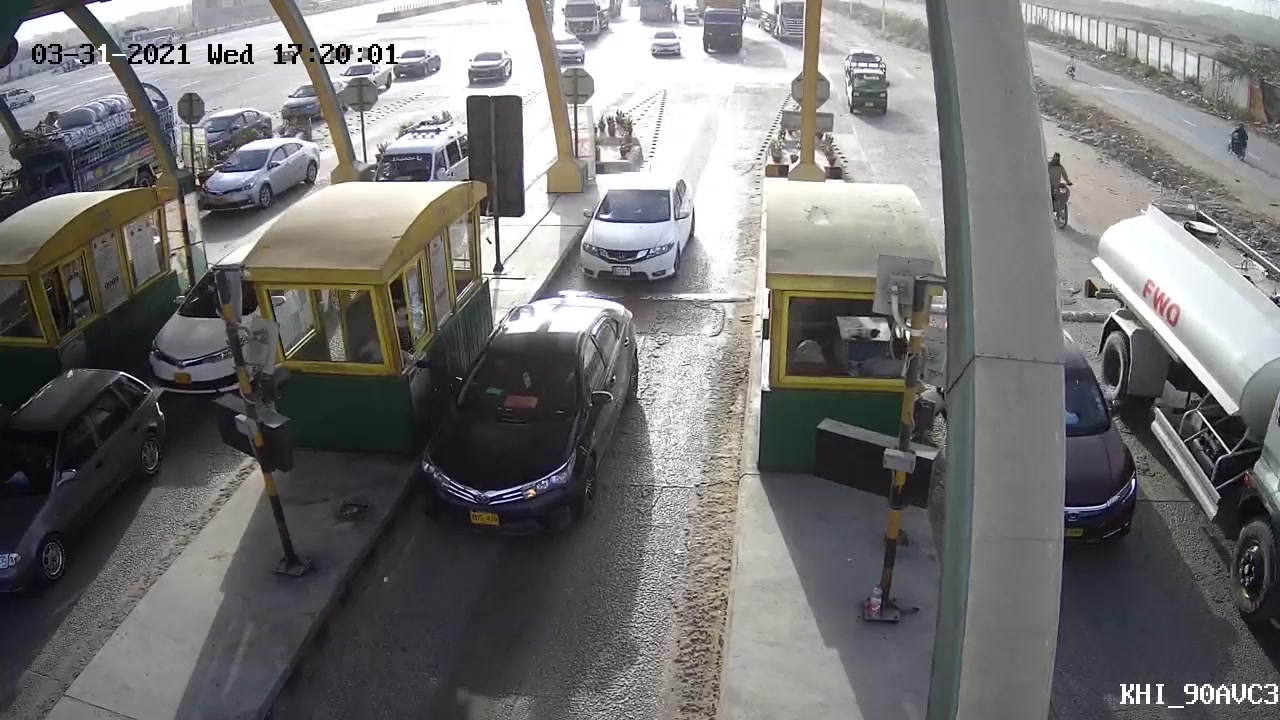F1: (408, 288, 648, 546), (582, 175, 701, 287)
